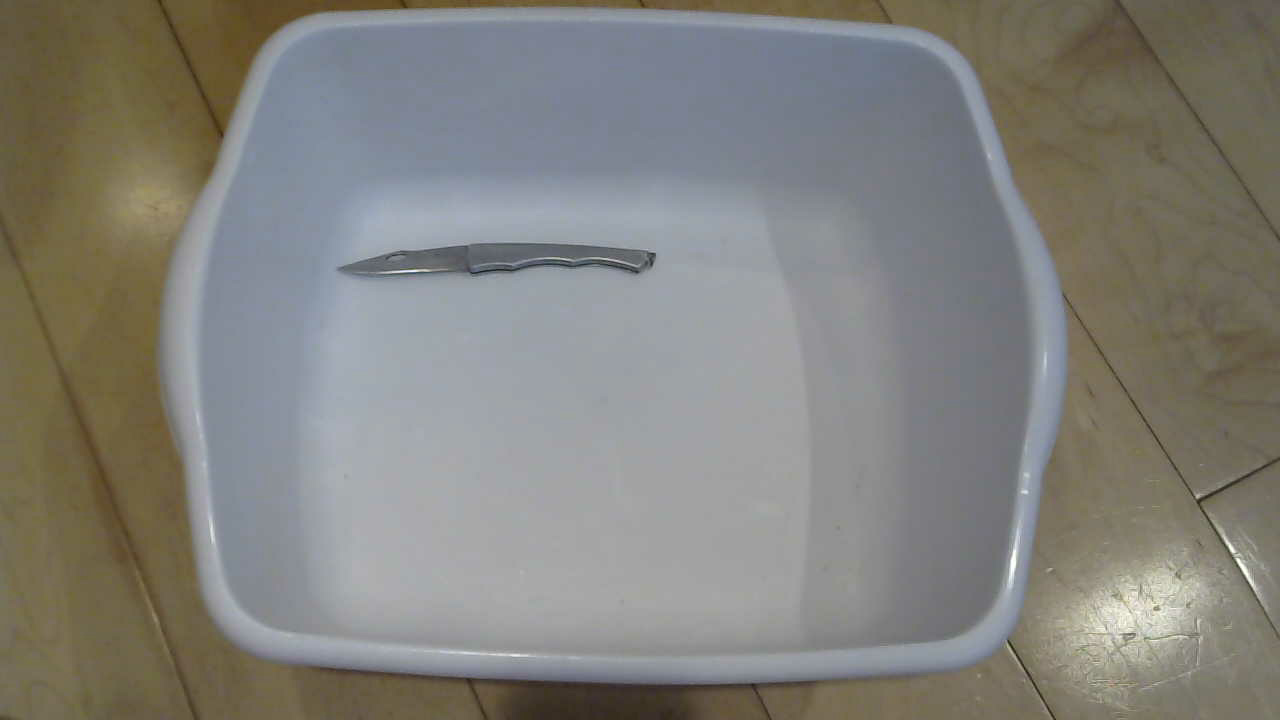knife: (309, 230, 684, 335)
